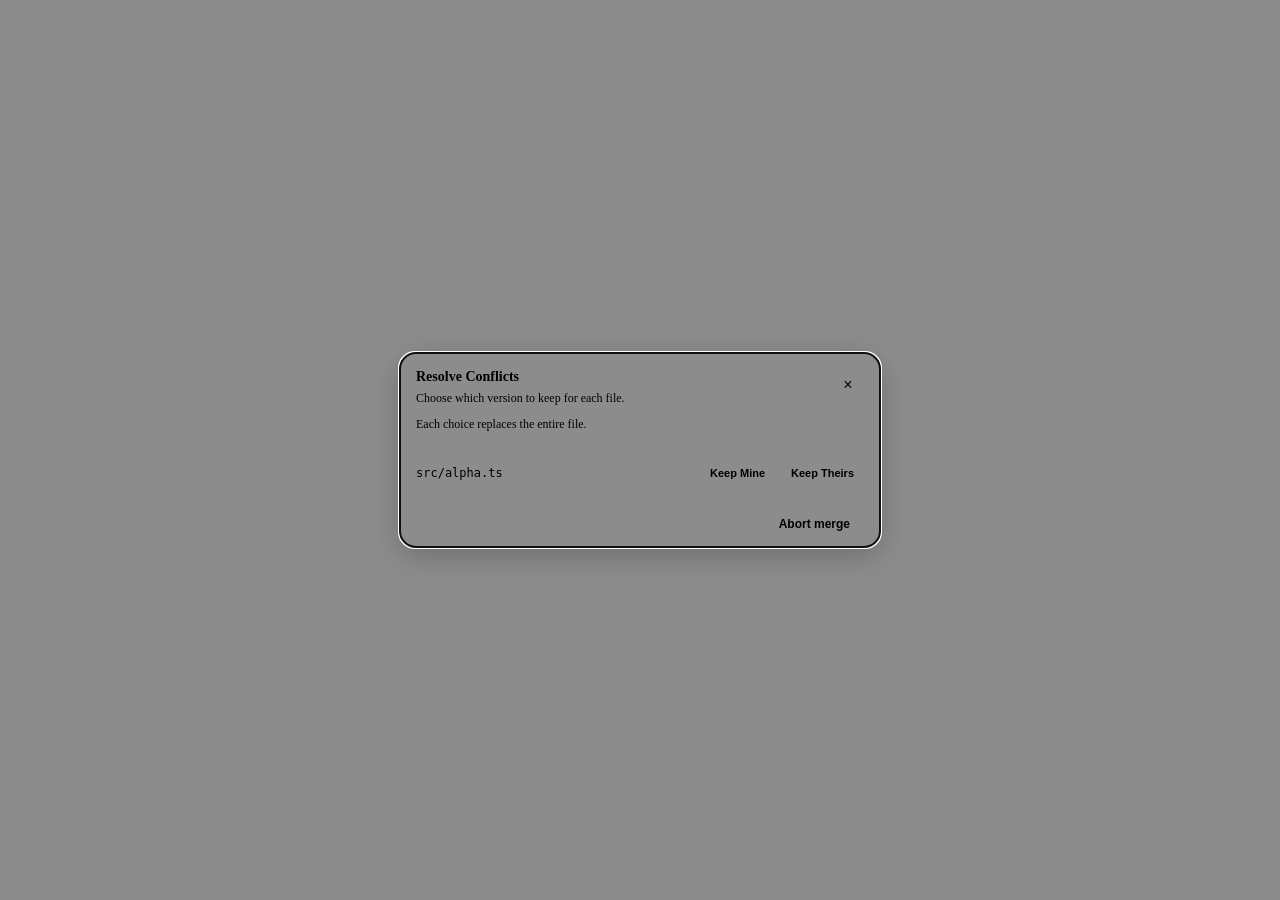
Test: ConflictResolver › does not close when merge completion fails (false)
Step 1. Click the button "Keep Mine" → (738, 473), box [700,463,775,483]
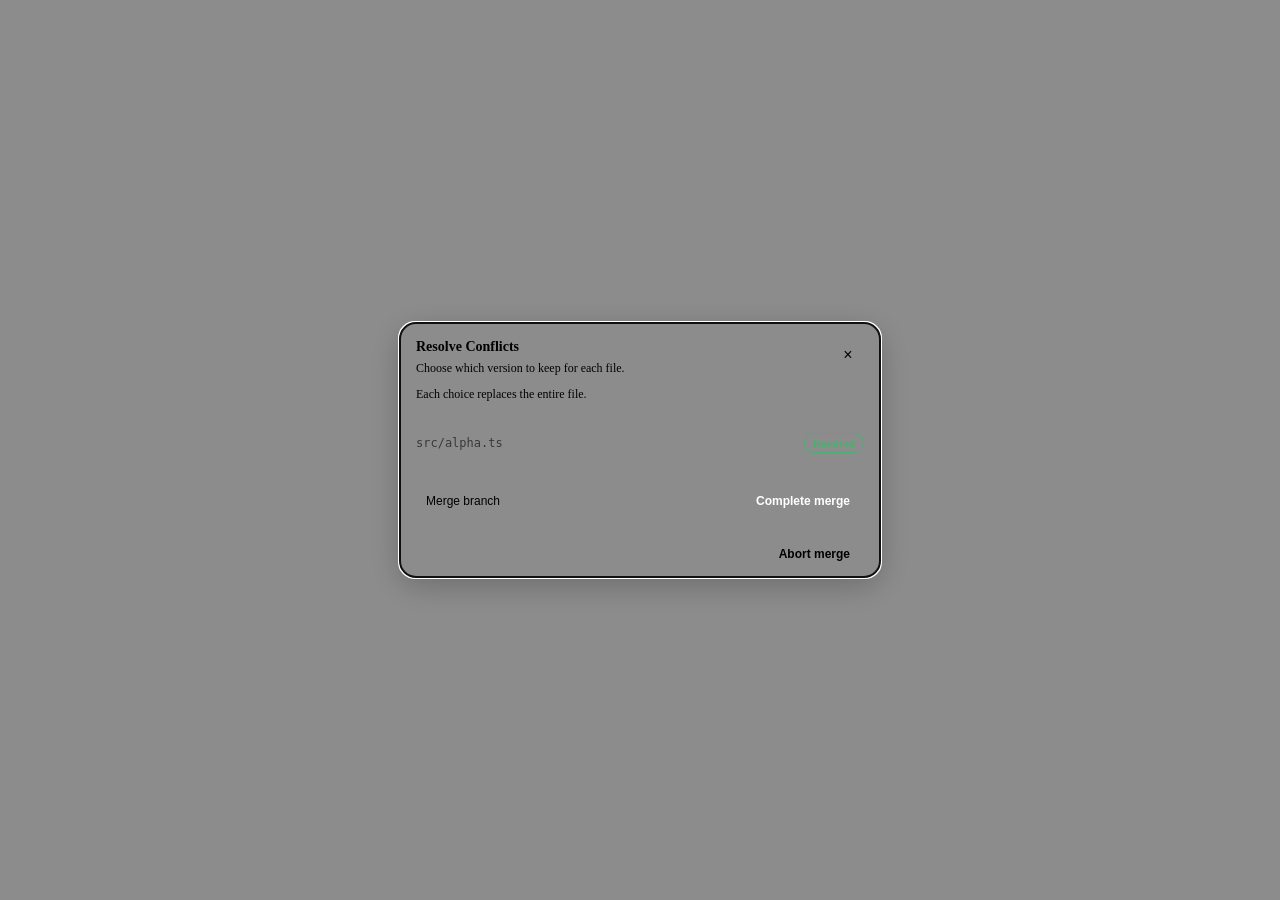
Now the text "Resolved" is shown, box [804,433,864,453]
Step 2. Click the button "Complete merge" → (803, 501), box [742,483,864,519]
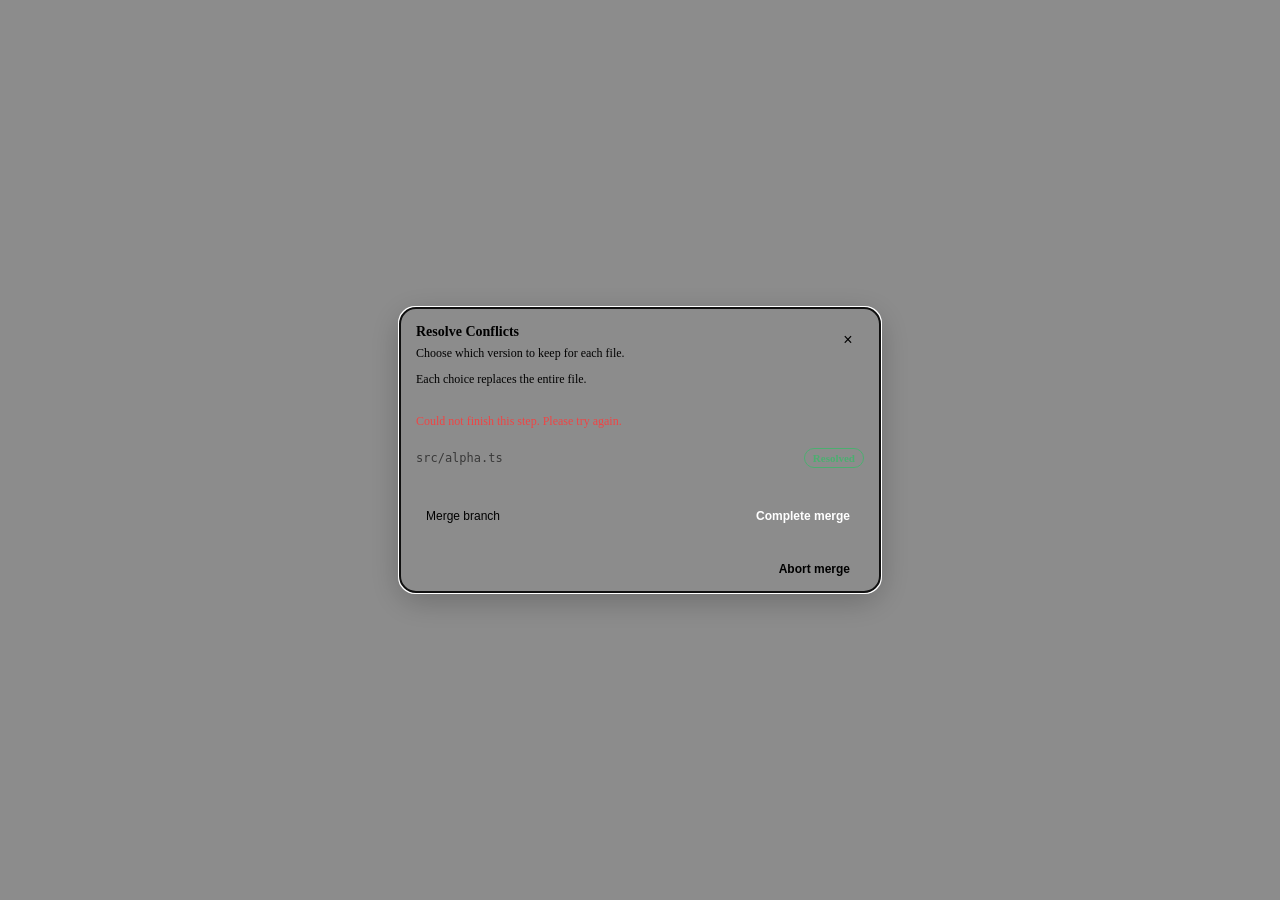
Now the button "Complete merge" is enabled, box [742,498,864,534]
Now the message "Could not finish this step. Please try again." is shown, box [416,414,622,428]
